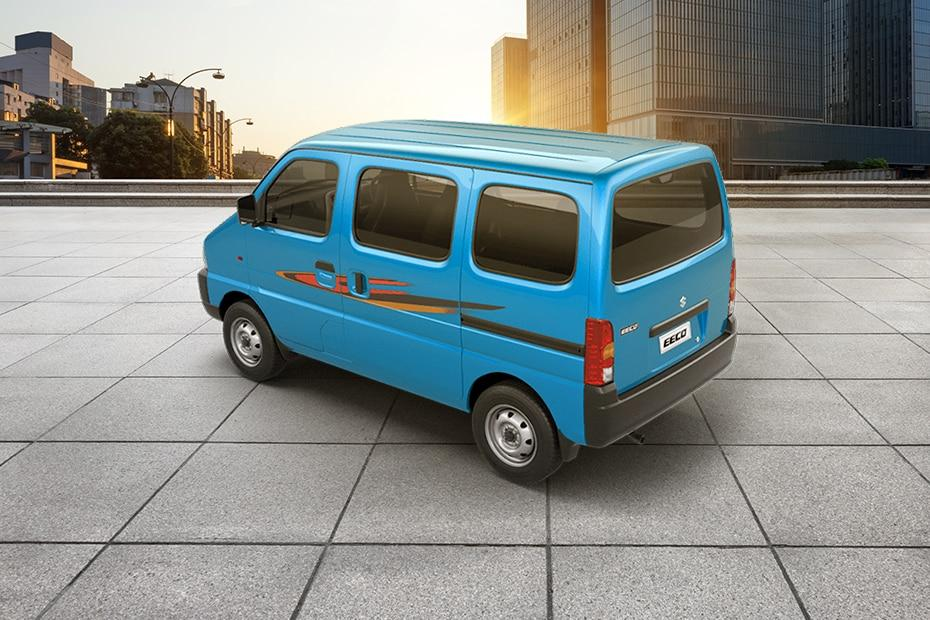van: (197, 118, 736, 483)
